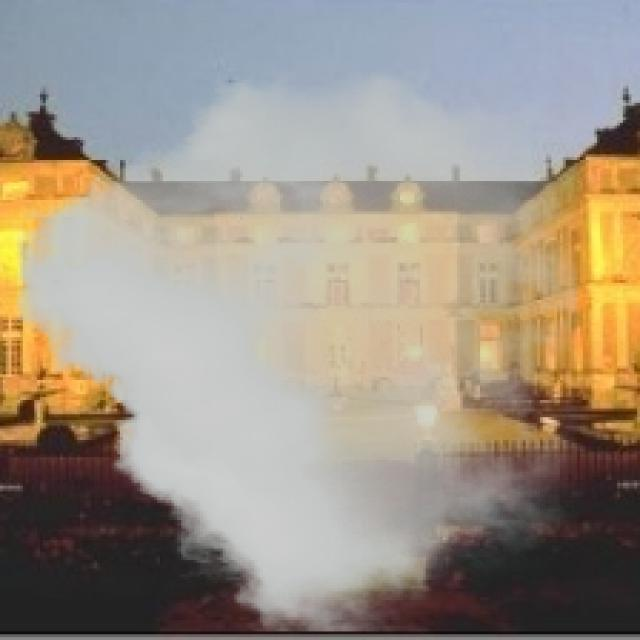Smoke: (17, 71, 577, 632)
